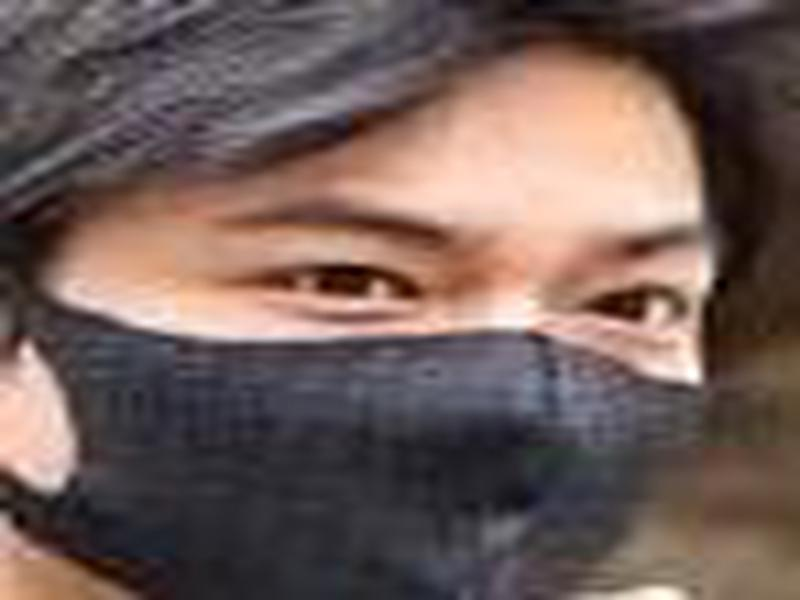with_mask: (1, 1, 747, 596)
